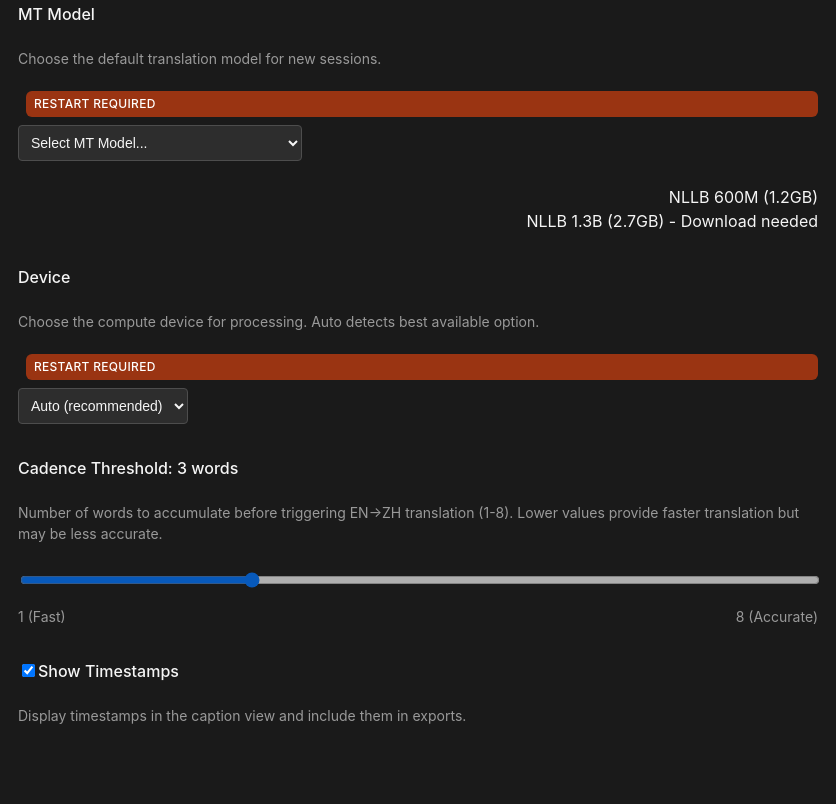
it: SettingsView › should show tooltips on focus for keyboard accessibility
(page scrolled)
Click the dropdown labelled "Device" at (103, 406), box [18,388,188,424]
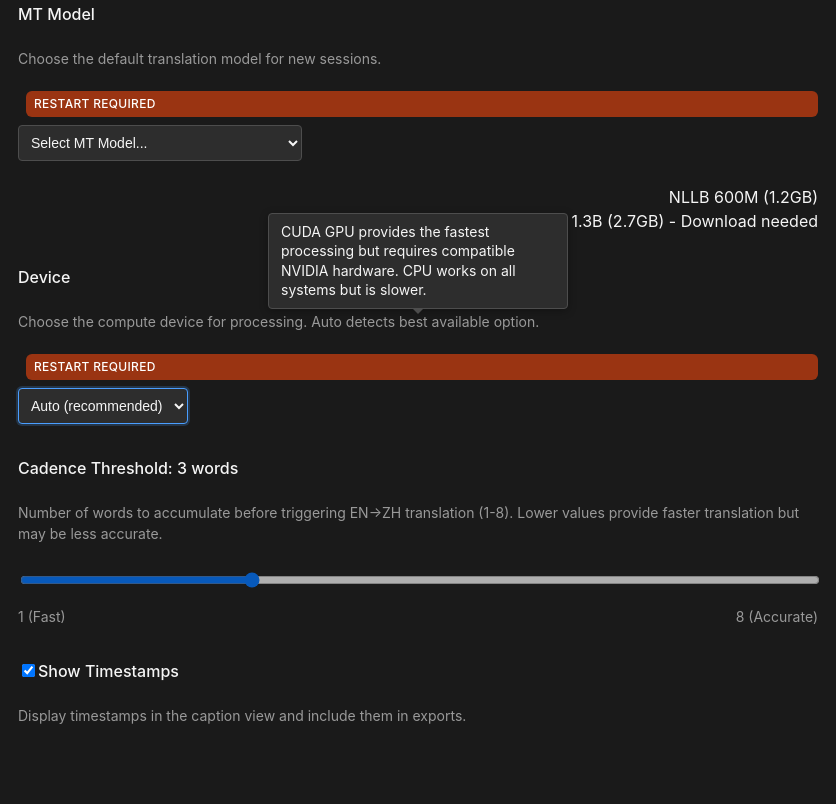
Check: the tooltip is shown, box [268,213,568,309]
Check: the tooltip "CUDA GPU provides" is shown, box [281,223,516,298]
